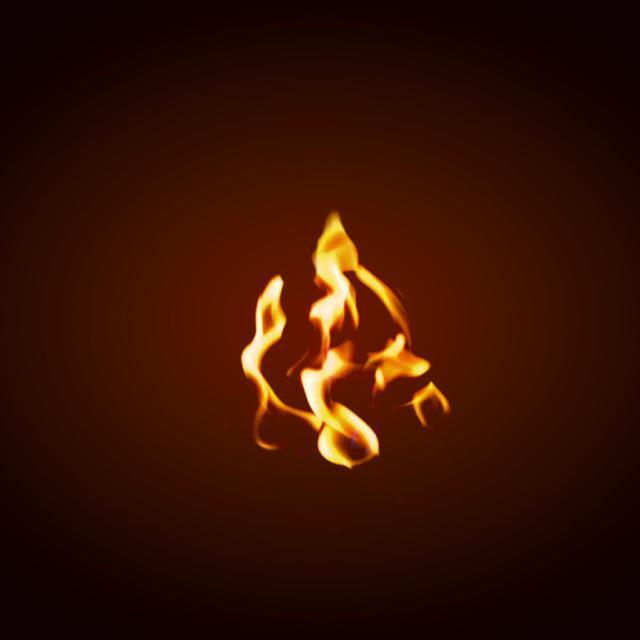Fire: (238, 210, 460, 472)
